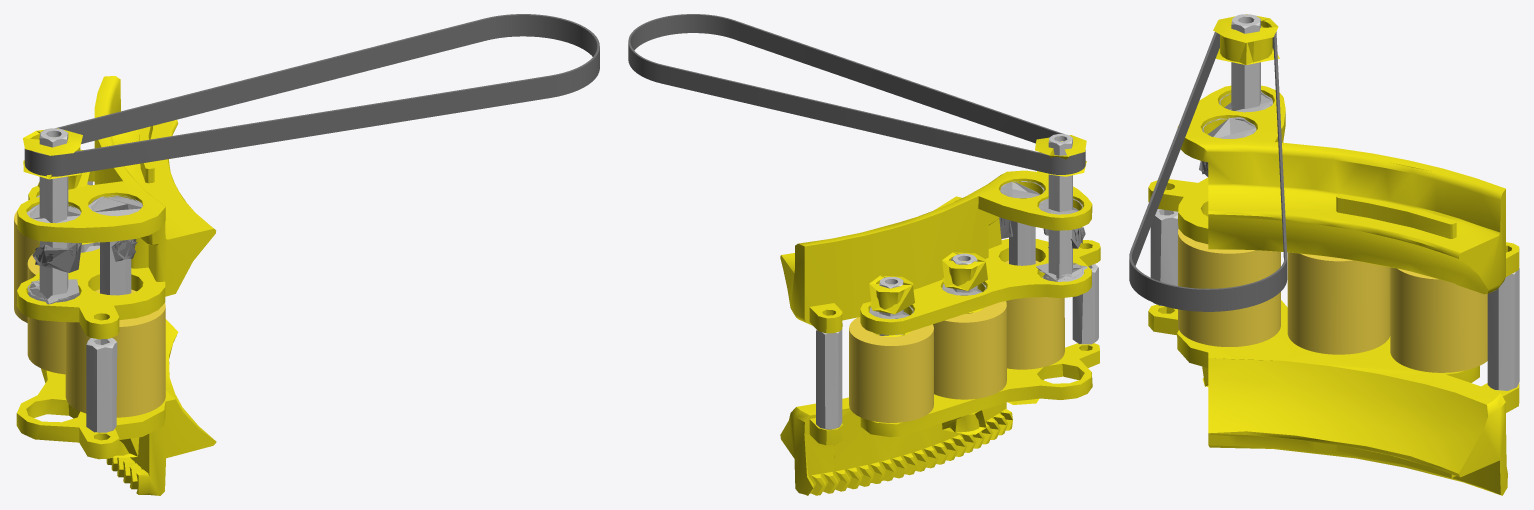
3 renders of one model, left to right at view 1: azimuth 30°, elevation 25°; view 2: azimuth 150°, elevation 25°; view 3: azimuth 270°, elevation 25°, orthographic. The views are drawn at different scales.
Visible parts, largest first — view 1: model_1.glb; view 2: model_1.glb; view 3: model_1.glb.
Part boxes in pixels (x1,y1,x2,y2): model_1.glb: (14,14,599,495); model_1.glb: (628,14,1100,495); model_1.glb: (1129,14,1519,495).
Size of the model in its own units: 0.1613 by 0.1042 by 0.0961.
